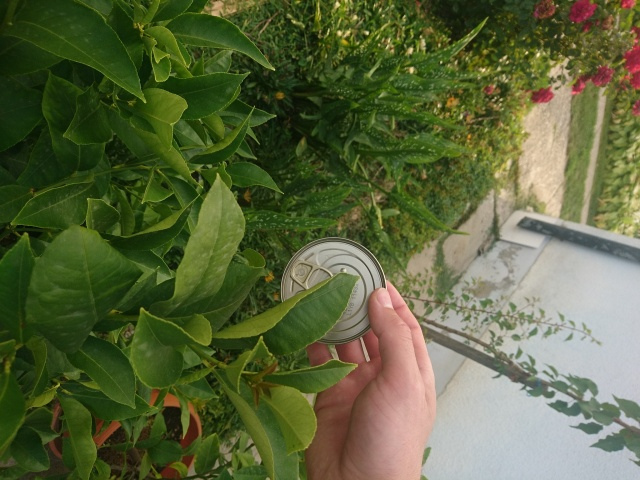Podravka Luncheon Meat 150g: (276, 234, 390, 347)
